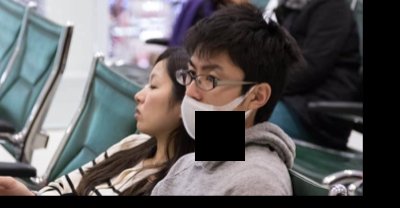with_mask: (177, 57, 243, 138)
without_mask: (132, 69, 174, 132)
